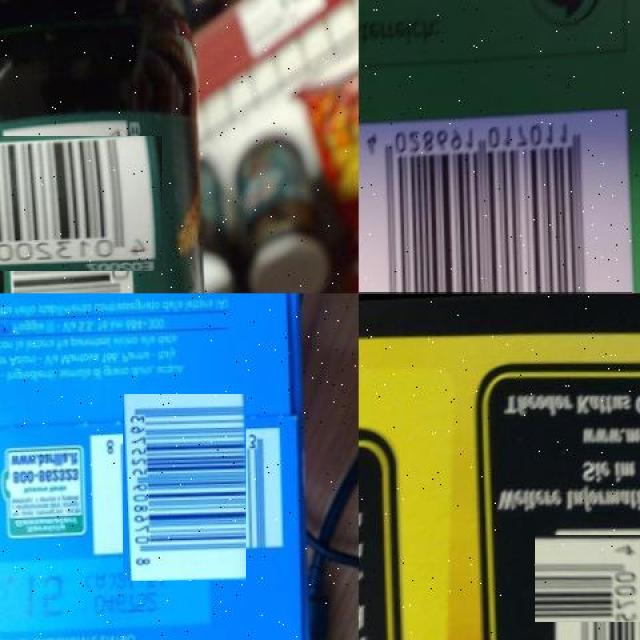Barcode: (359, 110, 632, 294), (107, 410, 262, 565), (0, 124, 151, 282), (544, 525, 640, 631)
